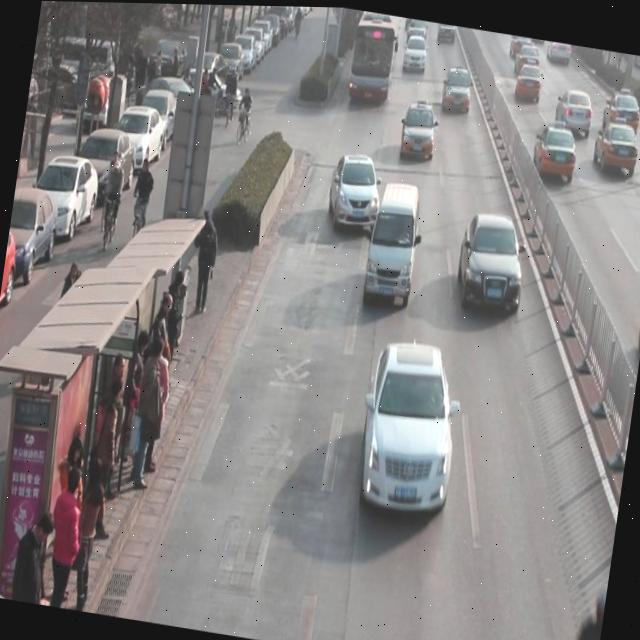car: (354, 338, 467, 518), (452, 209, 532, 316), (324, 151, 384, 232), (528, 116, 580, 182), (590, 114, 640, 176), (398, 100, 440, 163), (552, 84, 596, 135), (601, 81, 640, 133), (439, 64, 474, 114), (514, 56, 544, 102), (401, 32, 428, 74), (514, 38, 542, 74), (544, 39, 572, 64), (508, 32, 533, 58), (407, 17, 428, 41), (436, 21, 457, 43)
truck: (362, 179, 424, 306)
van: (346, 8, 398, 106)
